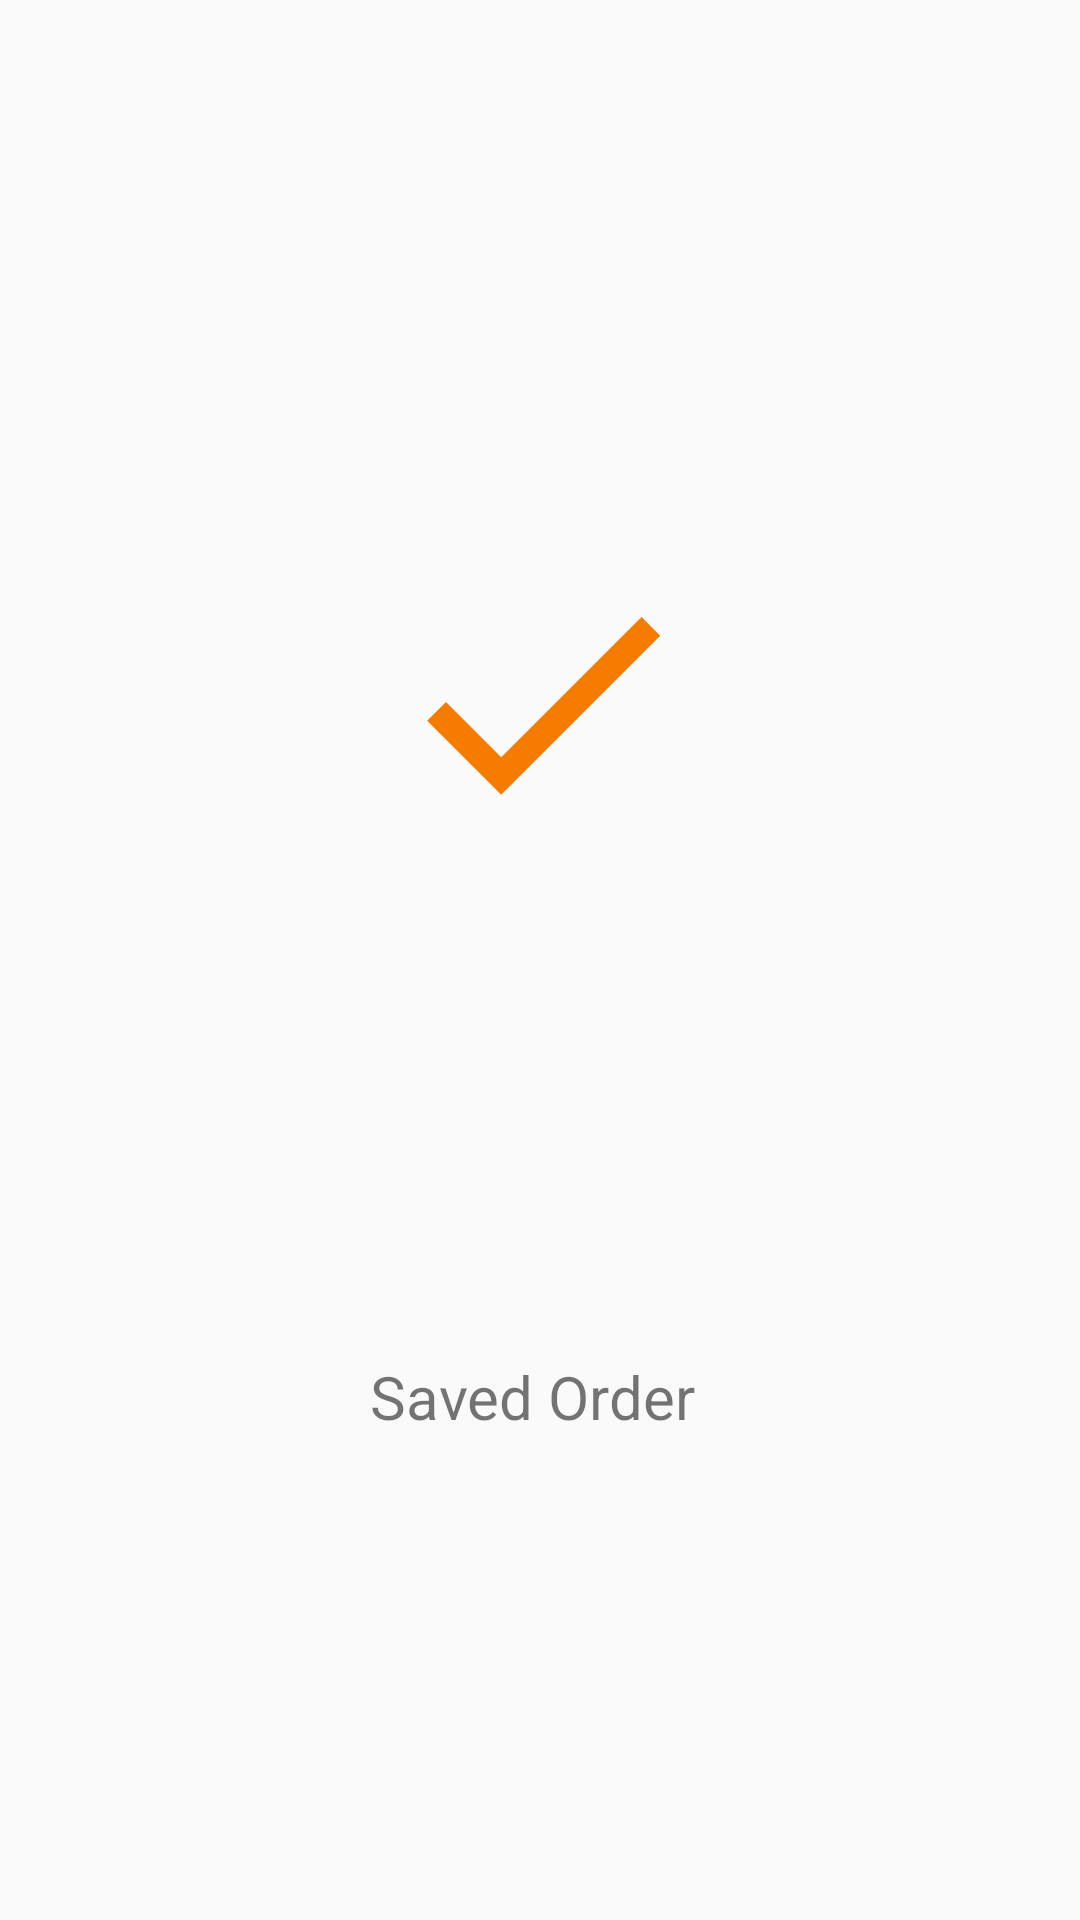

Screen size 1080px x 1920px. Icon name, then its box in pixels as bbox=[x1, y1, x2, y2]:
check: bbox=[427, 617, 660, 795]
